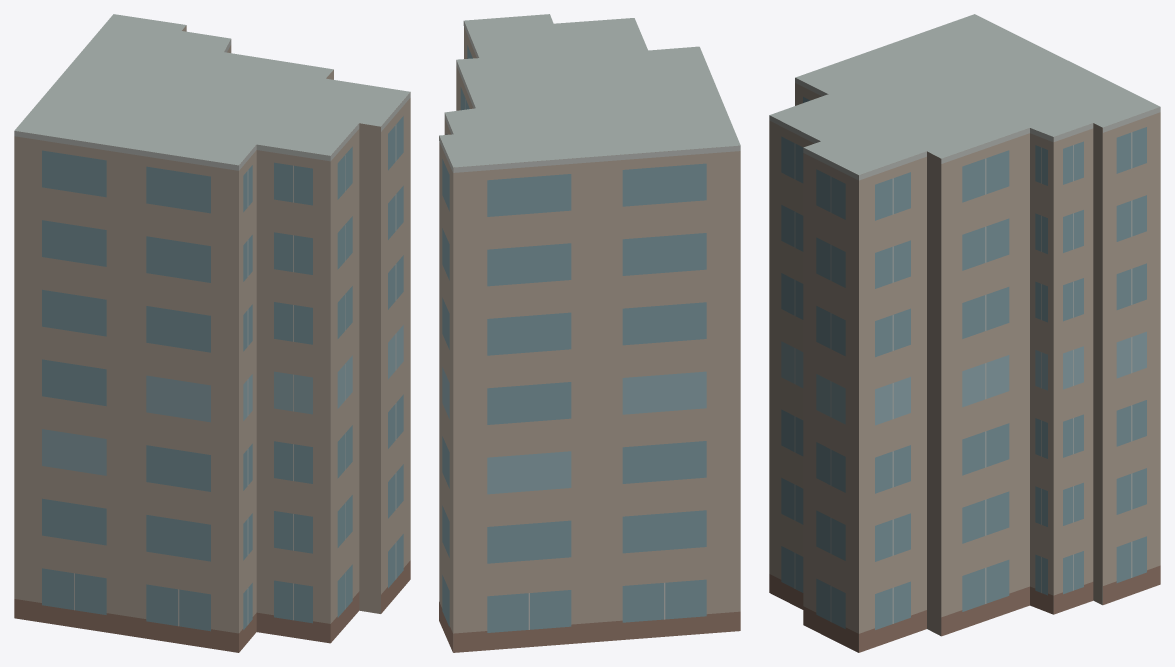
The model's file is survey-upis-32672516.glb.
The picture shows the model from 3 angles, left to right: view 1: azimuth 30°, elevation 25°; view 2: azimuth 150°, elevation 25°; view 3: azimuth 270°, elevation 25°; orthographic projection. The views are drawn at different scales.
Parts seen in each view (by area): view 1: survey-upis-32672516.tmp; view 2: survey-upis-32672516.tmp; view 3: survey-upis-32672516.tmp.
Boxes of the visible parts, <box> form: survey-upis-32672516.tmp: <box>14,14,410,652</box>; survey-upis-32672516.tmp: <box>439,14,740,652</box>; survey-upis-32672516.tmp: <box>769,14,1160,652</box>.
Bounding box in the file's own units: 15.79 × 21.8 × 16.19.
